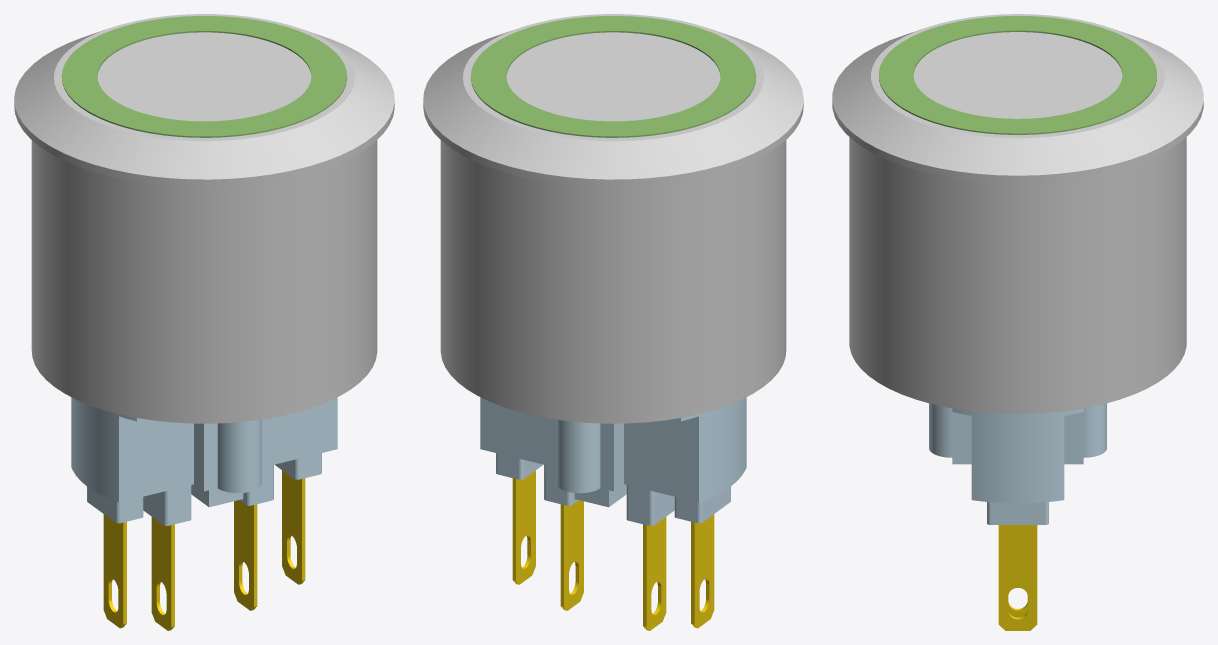
File: push_button_red.dae
3 views of the same model, side by side, from view 1: azimuth 30°, elevation 25°; view 2: azimuth 150°, elevation 25°; view 3: azimuth 270°, elevation 25° (orthographic). The views are drawn at different scales.
Parts seen in each view (by area): view 1: Push Button - Red; view 2: Push Button - Red; view 3: Push Button - Red.
Boxes of the visible parts, <box> form: Push Button - Red: <box>14,14,394,630</box>; Push Button - Red: <box>423,14,803,630</box>; Push Button - Red: <box>832,14,1203,630</box>.
Bounding box in the file's own units: 0.024 × 0.024 × 0.0376.
